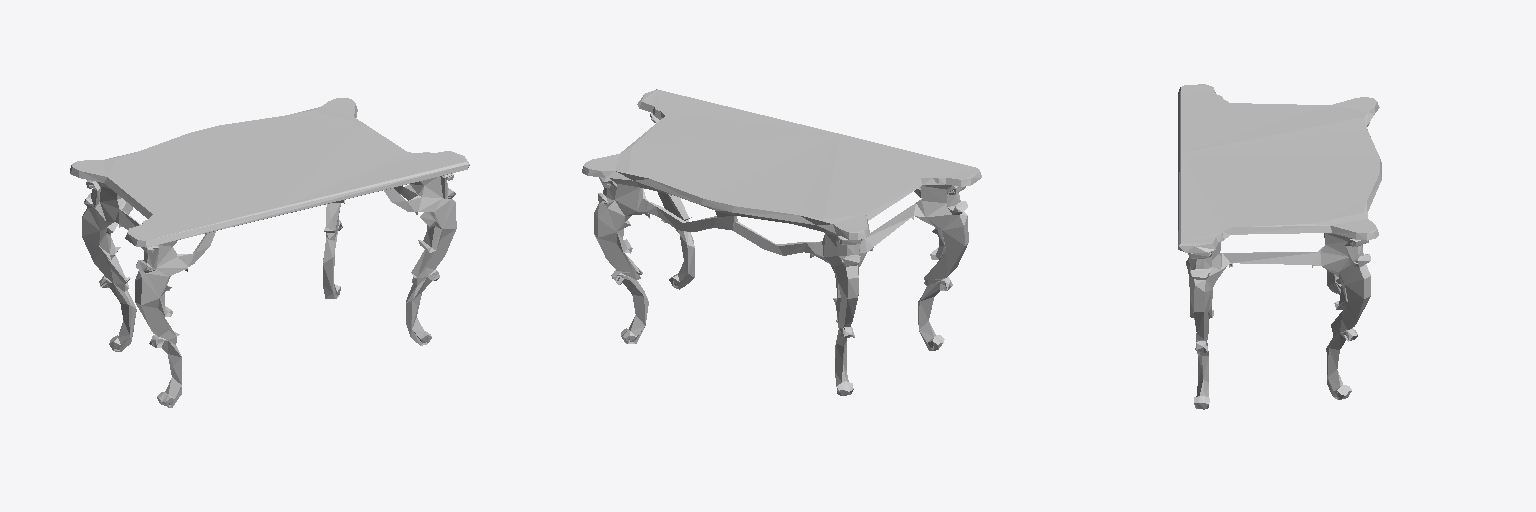
The model's file is Table.obj.
3 renders of one model, left to right at view 1: azimuth 30°, elevation 25°; view 2: azimuth 150°, elevation 25°; view 3: azimuth 270°, elevation 25°, orthographic.
Visible parts, largest first — view 1: Baroque_WideLow_Plane.002; view 2: Baroque_WideLow_Plane.002; view 3: Baroque_WideLow_Plane.002.
Part boxes in pixels (x1,y1,x2,y2): Baroque_WideLow_Plane.002: (70, 98, 469, 407); Baroque_WideLow_Plane.002: (582, 89, 981, 395); Baroque_WideLow_Plane.002: (1178, 84, 1381, 409).
Bounding box in the file's own units: 1.46 × 0.7633 × 0.7745.